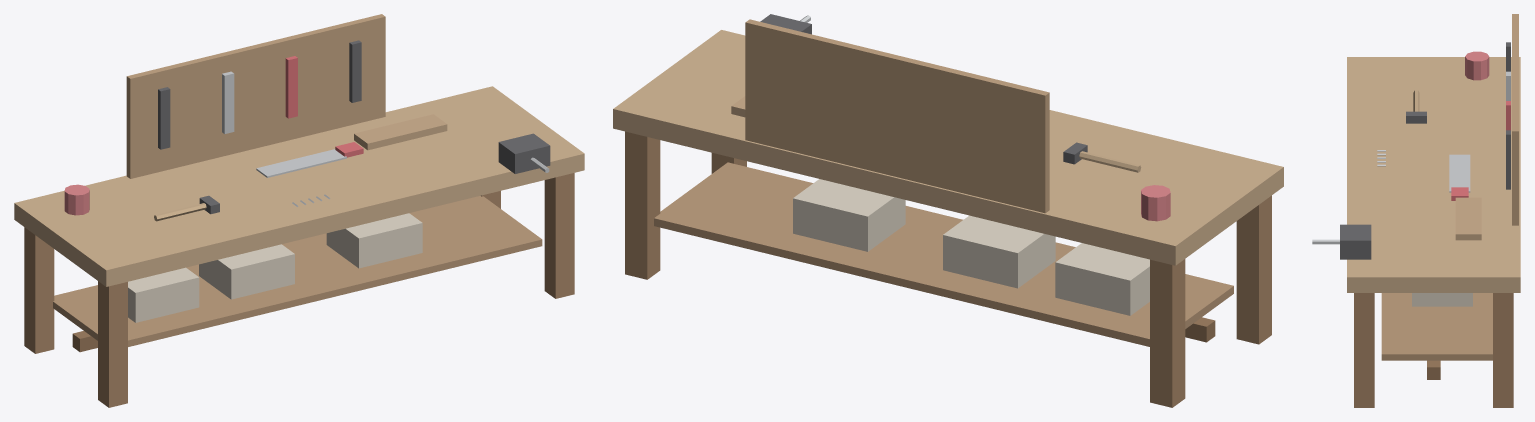
File: station_bench.glb
3 renders of one model, left to right at view 1: azimuth 30°, elevation 25°; view 2: azimuth 150°, elevation 25°; view 3: azimuth 270°, elevation 25°, orthographic. The views are drawn at different scales.
Parts seen in each view (by area): view 1: Top, Pegboard, Lower shelf, Leg.-1.-1, Parts box.0, Vice body, Vice screw, Plank offcut, Saw handle, Paint pot; view 2: Top, Pegboard, Lower shelf, Parts box.0, Leg.-1.-1, Paint pot, Vice body; view 3: Top, Lower shelf, Leg.-1.-1, Vice body, Pegboard, Vice screw, Plank offcut, Parts box.0, Paint pot, Saw handle, Stretcher.
Boxes of the visible parts, x1=… form: Top: x1=14, y1=86, x2=584, y2=286; Pegboard: x1=126, y1=14, x2=385, y2=178; Lower shelf: x1=53, y1=196, x2=542, y2=346; Leg.-1.-1: x1=24, y1=173, x2=574, y2=407; Parts box.0: x1=128, y1=213, x2=422, y2=322; Vice body: x1=158, y1=40, x2=550, y2=214; Vice screw: x1=222, y1=71, x2=549, y2=206; Plank offcut: x1=354, y1=114, x2=447, y2=150; Saw handle: x1=285, y1=56, x2=363, y2=157; Paint pot: x1=64, y1=184, x2=89, y2=215; Top: x1=613, y1=30, x2=1283, y2=265; Pegboard: x1=745, y1=19, x2=1049, y2=213; Lower shelf: x1=654, y1=162, x2=1233, y2=346; Parts box.0: x1=793, y1=179, x2=1149, y2=315; Leg.-1.-1: x1=625, y1=131, x2=1271, y2=407; Paint pot: x1=1141, y1=185, x2=1170, y2=221; Vice body: x1=760, y1=14, x2=1087, y2=164; Top: x1=1347, y1=57, x2=1520, y2=292; Lower shelf: x1=1381, y1=293, x2=1492, y2=360; Leg.-1.-1: x1=1354, y1=293, x2=1513, y2=407; Vice body: x1=1340, y1=42, x2=1510, y2=259; Pegboard: x1=1512, y1=14, x2=1518, y2=225; Vice screw: x1=1312, y1=71, x2=1510, y2=244; Plank offcut: x1=1455, y1=197, x2=1481, y2=240; Parts box.0: x1=1412, y1=293, x2=1472, y2=306; Paint pot: x1=1465, y1=51, x2=1489, y2=80; Saw handle: x1=1451, y1=101, x2=1510, y2=200; Stretcher: x1=1427, y1=360, x2=1440, y2=379.
Size of the model in its own units: 3 by 1.45 by 1.2.
